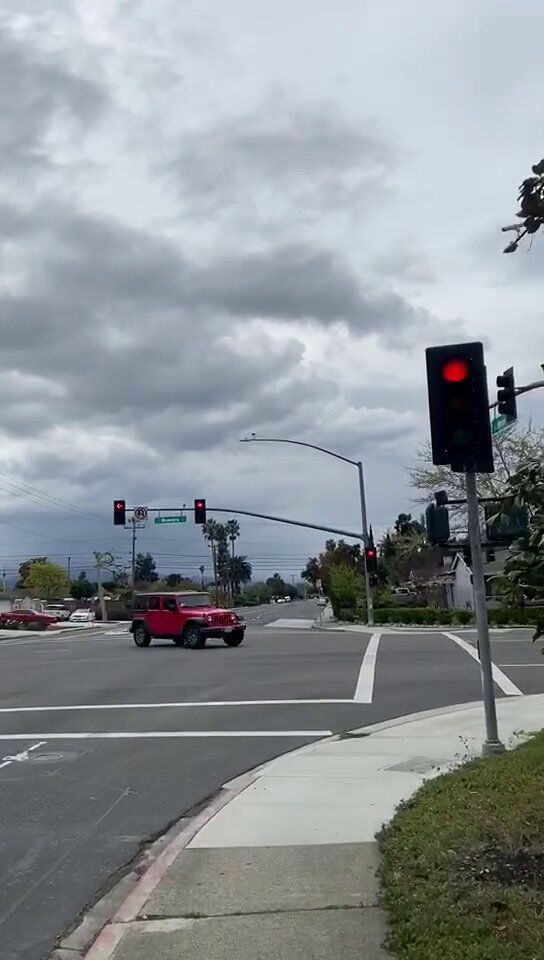red_light: (429, 344, 490, 468), (113, 500, 126, 523), (194, 496, 205, 523), (365, 544, 376, 569)
